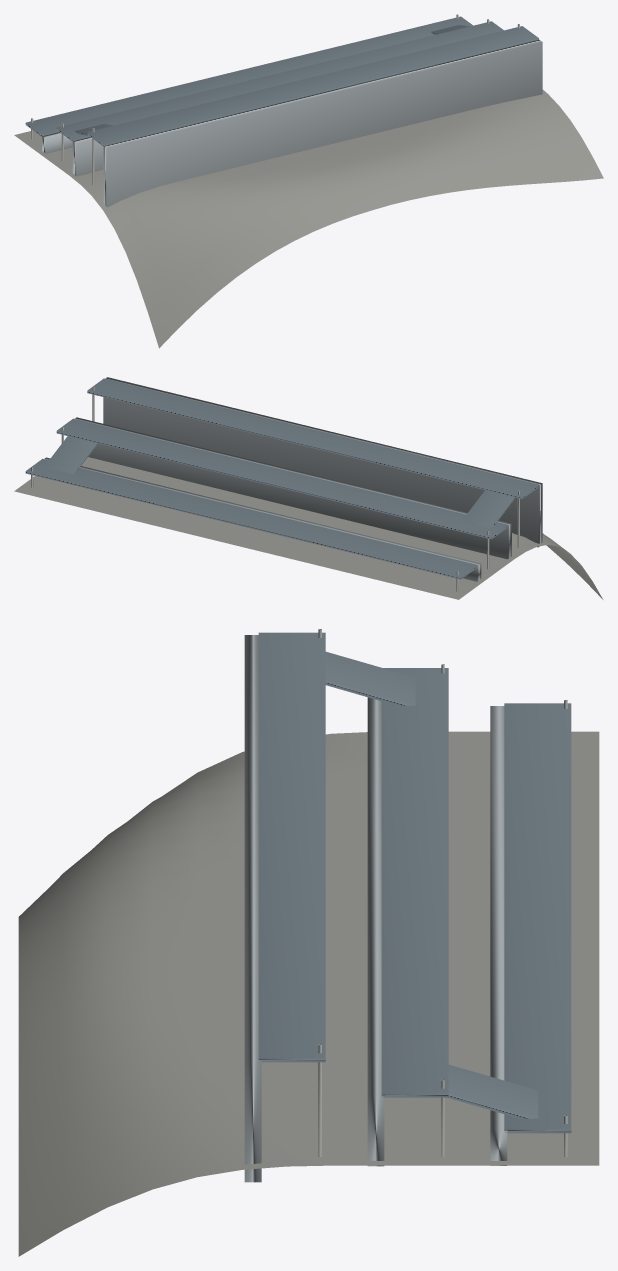
File: alpine-6-2.glb
3 views of the same model, one above another, from view 1: azimuth 30°, elevation 25°; view 2: azimuth 150°, elevation 25°; view 3: azimuth 270°, elevation 25° (orthographic). The views are drawn at different scales.
Parts seen in each view (by area): view 1: alpine-6-2; view 2: alpine-6-2; view 3: alpine-6-2.
Part boxes in pixels (x1,y1,x2,y2): alpine-6-2: [14, 14, 603, 348]; alpine-6-2: [14, 377, 603, 599]; alpine-6-2: [18, 629, 599, 1256].
Bounding box in the file's own units: 184 × 64.39 × 104.
4 materials, 4 textured.
